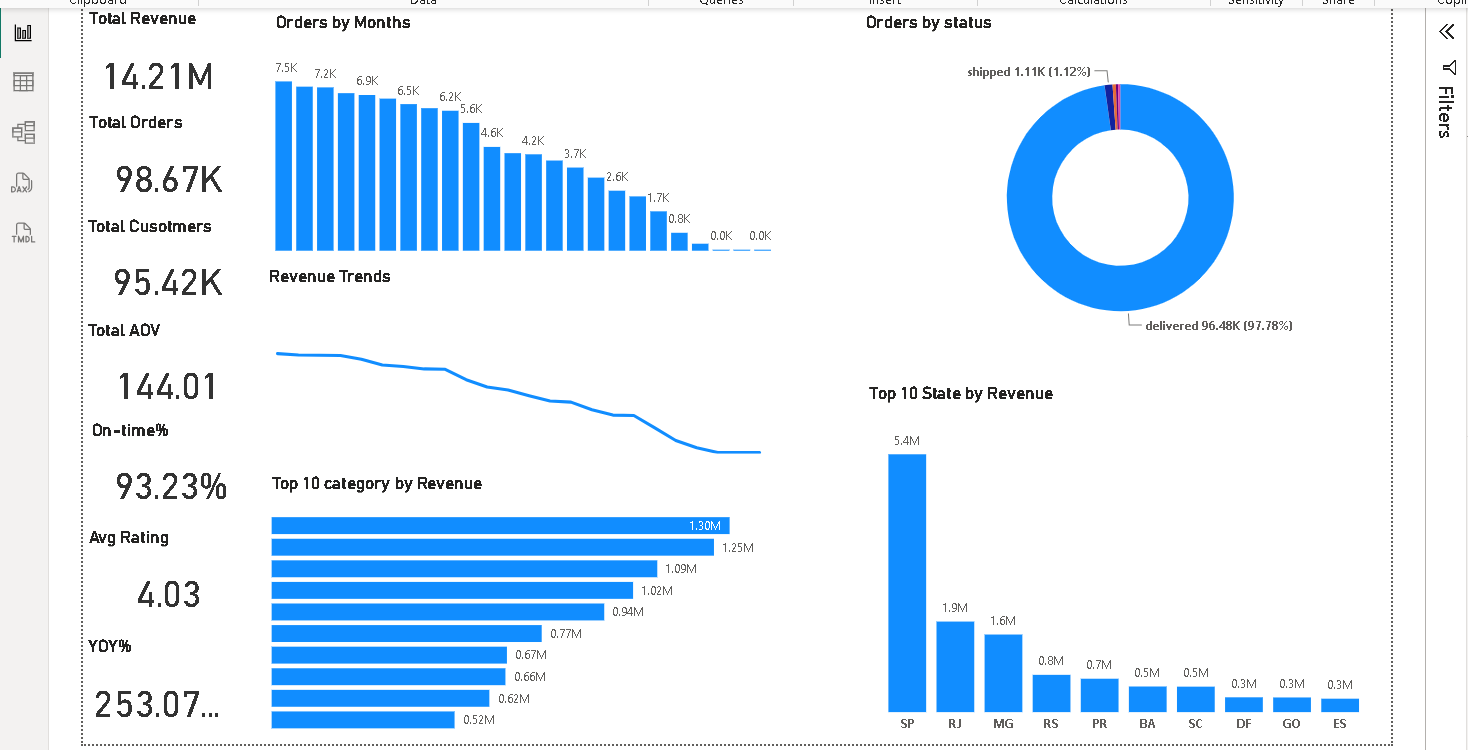

The page's visual inventory and layout, read from the dashboard file:
{"tool":"powerbi","page":{"name":"Overviews Dashboard","canvas":[1280,720],"ordinal":0},"visuals":[{"type":"advanceCardE03760C5AB684758B56AA29F9E6C257B","title":"Total Revenue","fields":{"mainMeasure":["Base_Measures.Revenue"]},"box":[1.5,0,166,101.4],"z":0},{"type":"advanceCardE03760C5AB684758B56AA29F9E6C257B","title":"Total Orders","fields":{"mainMeasure":["Base_Measures.Orders"]},"box":[1.5,101.4,166,101.4],"z":1000},{"type":"advanceCardE03760C5AB684758B56AA29F9E6C257B","title":"Total Cusotmers","fields":{"mainMeasure":["Base_Measures.Customers"]},"box":[0,202.9,166,101.4],"z":2000},{"type":"advanceCardE03760C5AB684758B56AA29F9E6C257B","title":"Total AOV","fields":{"mainMeasure":["Base_Measures.AOV"]},"box":[0,304.3,166,101.4],"z":3000},{"type":"advanceCardE03760C5AB684758B56AA29F9E6C257B","title":"On-time%","fields":{"mainMeasure":["Base_Measures.On-time %"]},"box":[3.1,402.7,166,101.4],"z":4000},{"type":"advanceCardE03760C5AB684758B56AA29F9E6C257B","title":"Avg Rating","fields":{"mainMeasure":["Base_Measures.Avg Rating"]},"box":[1.5,507.2,166,101.4],"z":5000},{"type":"advanceCardE03760C5AB684758B56AA29F9E6C257B","title":"YOY%","fields":{"mainMeasure":["Time_Measures (2).YoY %"]},"box":[0,613.3,166,101.4],"z":6000},{"type":"lineChart","title":"Revenue Trends","fields":{"Category":["DimDate.Year-Month"],"Y":["Base_Measures.Revenue"]},"box":[176.8,252.1,498,189],"z":7000},{"type":"clusteredColumnChart","title":"Orders by  Months","fields":{"Category":["DimDate.Year-Month"],"Y":["Base_Measures.Orders"]},"box":[182.9,3.1,494.9,239.8],"z":8000},{"type":"barChart","title":"Top 10 category by Revenue","fields":{"Category":["public bi_fact_sales.category"],"Y":["Base_Measures.Revenue"]},"box":[179.8,454.9,498,255.1],"z":9000},{"type":"clusteredColumnChart","title":"Top 10 State by Revenue","fields":{"Category":["public bi_fact_sales.customer_state"],"Y":["Base_Measures.Revenue"]},"box":[763.9,367.3,508.7,352],"z":10000},{"type":"donutChart","title":"Orders by status","fields":{"Category":["public bi_fact_sales.order_status"],"Y":["Base_Measures.Orders"]},"box":[760.8,3.1,508.7,333.5],"z":11000}]}

Visuals, with their boxes on the page's 1280x720 design canvas (x1, y1, x2, y2). These are canvas units, not pixel positions in the 1468x750 screenshot, which may show the page scaled, cropped or inside an application window:
"Total Revenue" advanceCardE03760C5AB684758B56AA29F9E6C257B: region(2, 0, 168, 101)
"Total Orders" advanceCardE03760C5AB684758B56AA29F9E6C257B: region(2, 101, 168, 203)
"Total Cusotmers" advanceCardE03760C5AB684758B56AA29F9E6C257B: region(0, 203, 166, 304)
"Total AOV" advanceCardE03760C5AB684758B56AA29F9E6C257B: region(0, 304, 166, 406)
"On-time%" advanceCardE03760C5AB684758B56AA29F9E6C257B: region(3, 403, 169, 504)
"Avg Rating" advanceCardE03760C5AB684758B56AA29F9E6C257B: region(2, 507, 168, 609)
"YOY%" advanceCardE03760C5AB684758B56AA29F9E6C257B: region(0, 613, 166, 715)
"Revenue Trends" lineChart: region(177, 252, 675, 441)
"Orders by  Months" clusteredColumnChart: region(183, 3, 678, 243)
"Top 10 category by Revenue" barChart: region(180, 455, 678, 710)
"Top 10 State by Revenue" clusteredColumnChart: region(764, 367, 1273, 719)
"Orders by status" donutChart: region(761, 3, 1270, 337)
